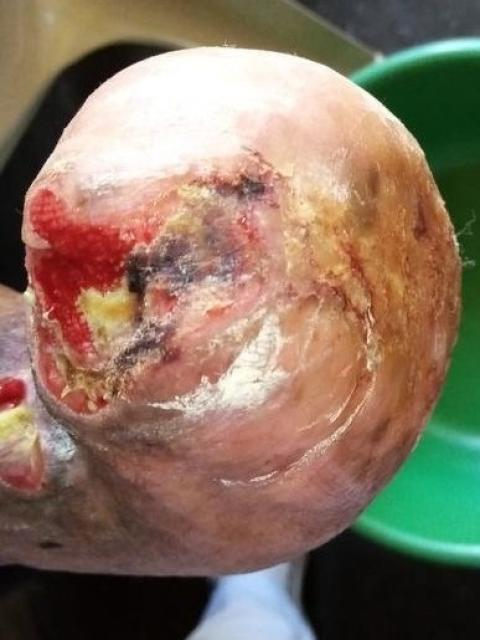wound: (22, 160, 371, 417), (0, 374, 48, 500)
